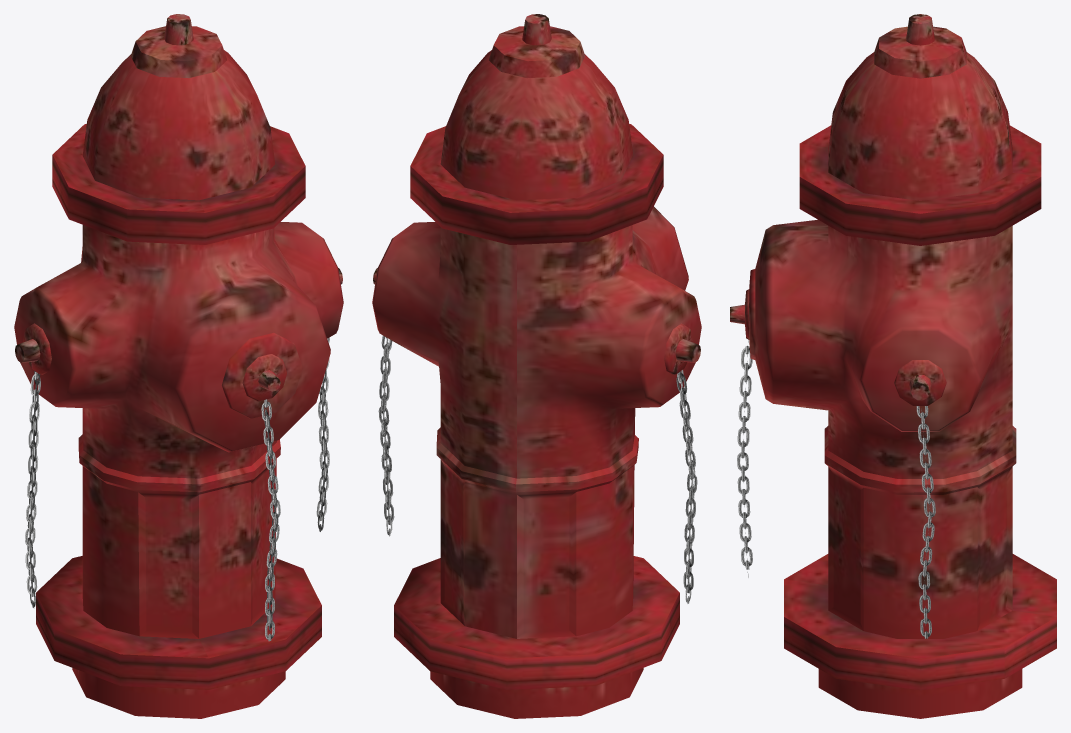
The model's file is hydrant.glb.
3 views of the same model, side by side, from view 1: azimuth 30°, elevation 25°; view 2: azimuth 150°, elevation 25°; view 3: azimuth 270°, elevation 25° (orthographic).
Visible parts, largest first — view 1: Object_9, Object_10; view 2: Object_9, Object_10; view 3: Object_9, Object_10.
Part boxes in pixels (x1,y1,x2,y2): Object_9: (14,14,343,718); Object_10: (25,337,329,641); Object_9: (372,14,701,718); Object_10: (378,335,697,603); Object_9: (730,14,1056,718); Object_10: (737,339,935,638).
Bounding box in the file's own units: 3.8 × 7.47 × 3.38.
Materials: 2 (2 with a texture image).
